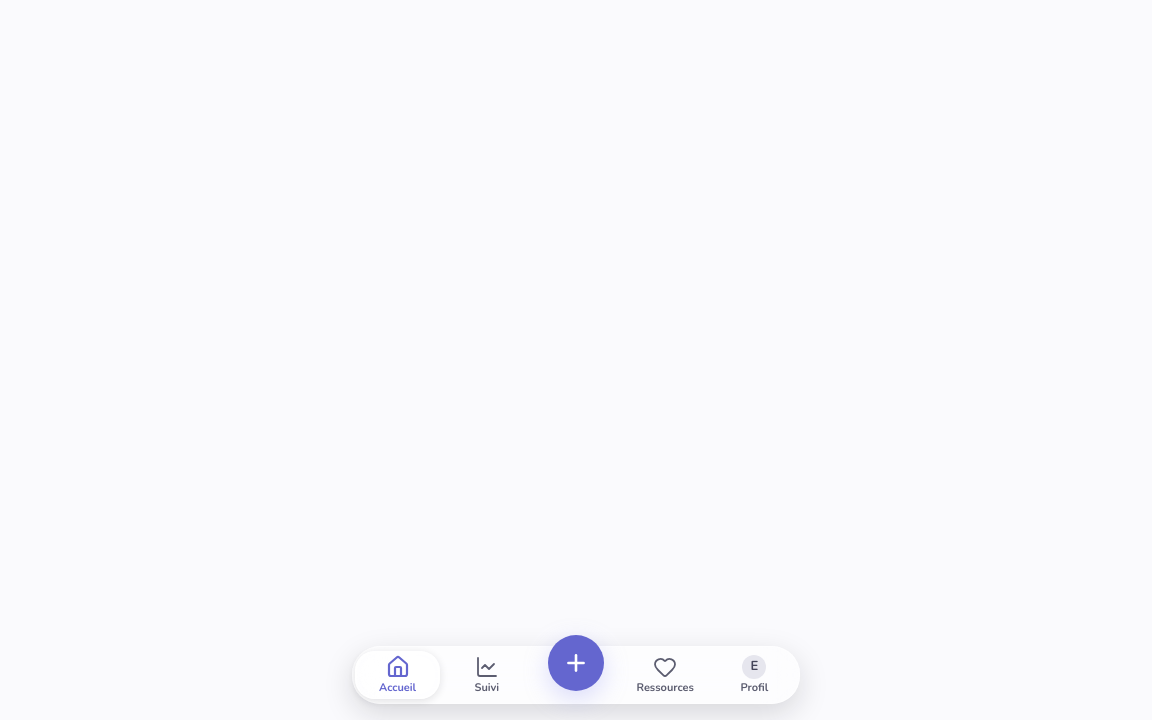
Test case: TabBar › le « + » ouvre la feuille (aria-expanded) avec 3 actions
Step 1. Click the button named "Actions rapides" → (576, 663), box [548, 635, 604, 691]
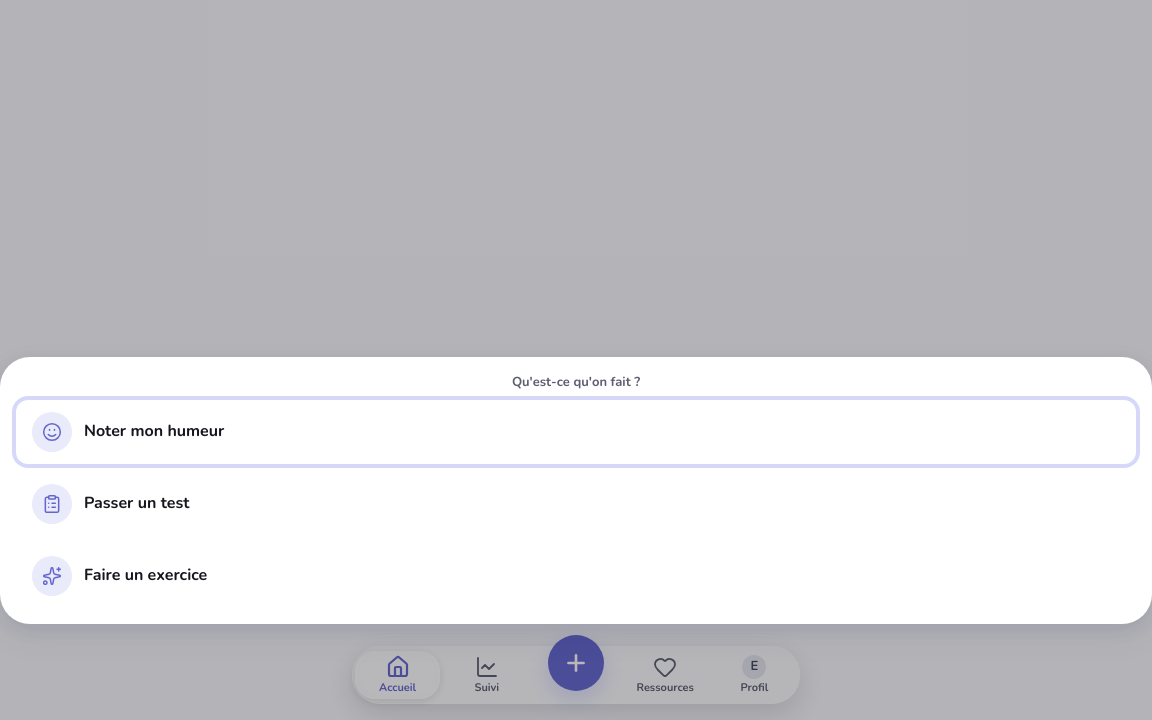
Result: the button named "Actions rapides" is expanded at [548, 635, 604, 691]
Result: the dialog named "Actions rapides" is shown at [0, 356, 1151, 624]
